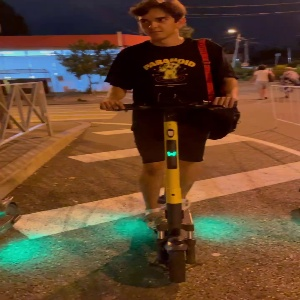human on a scooter: (99, 1, 240, 285)
